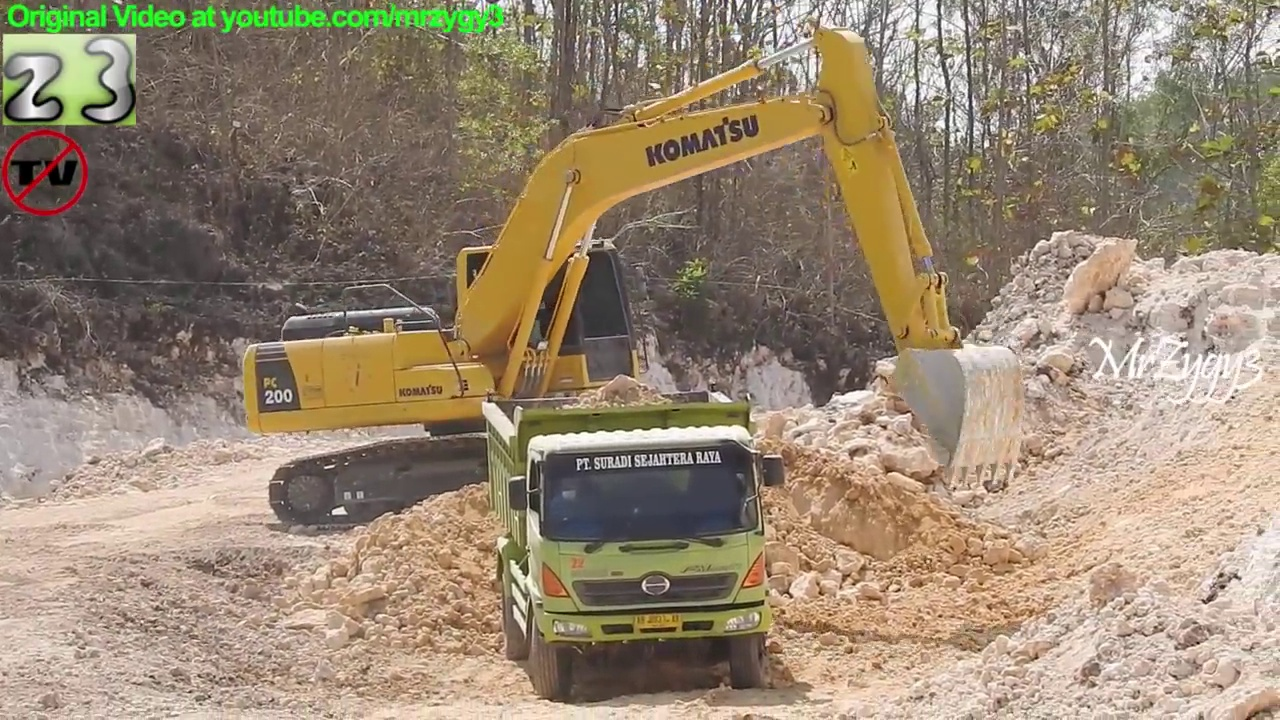excavator: (238, 24, 1031, 538)
truck: (478, 378, 793, 705)
